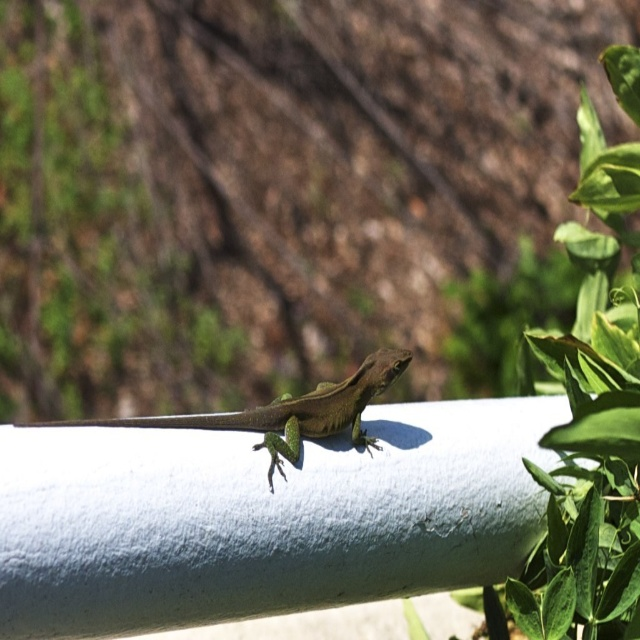Lizard: (110, 339, 436, 507)
